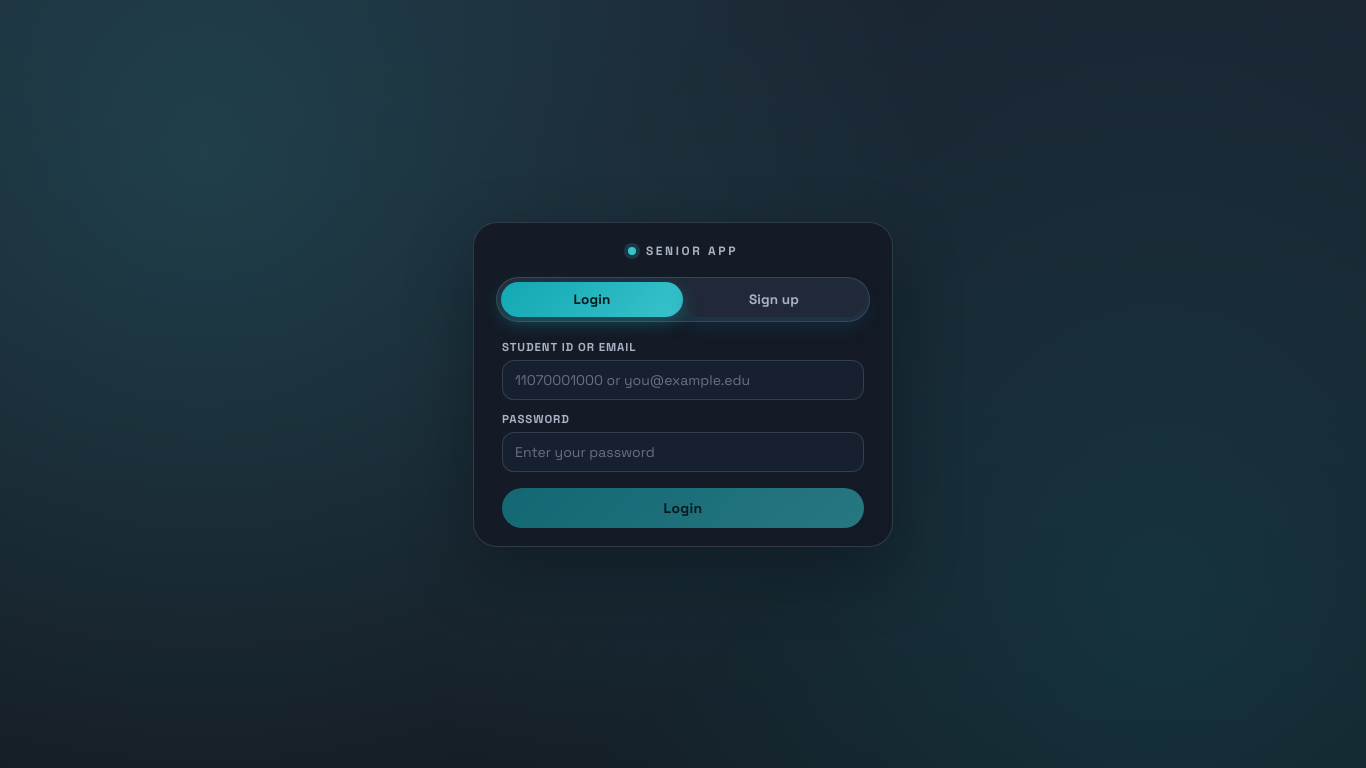
Test: Unified login page (issue #315) › rejects identifiers that are neither an 11-digit ID nor an email on submit
Type "not-valid" into the field labelled "Student ID or Email". click: (683, 380)
box: [502,360,864,400]
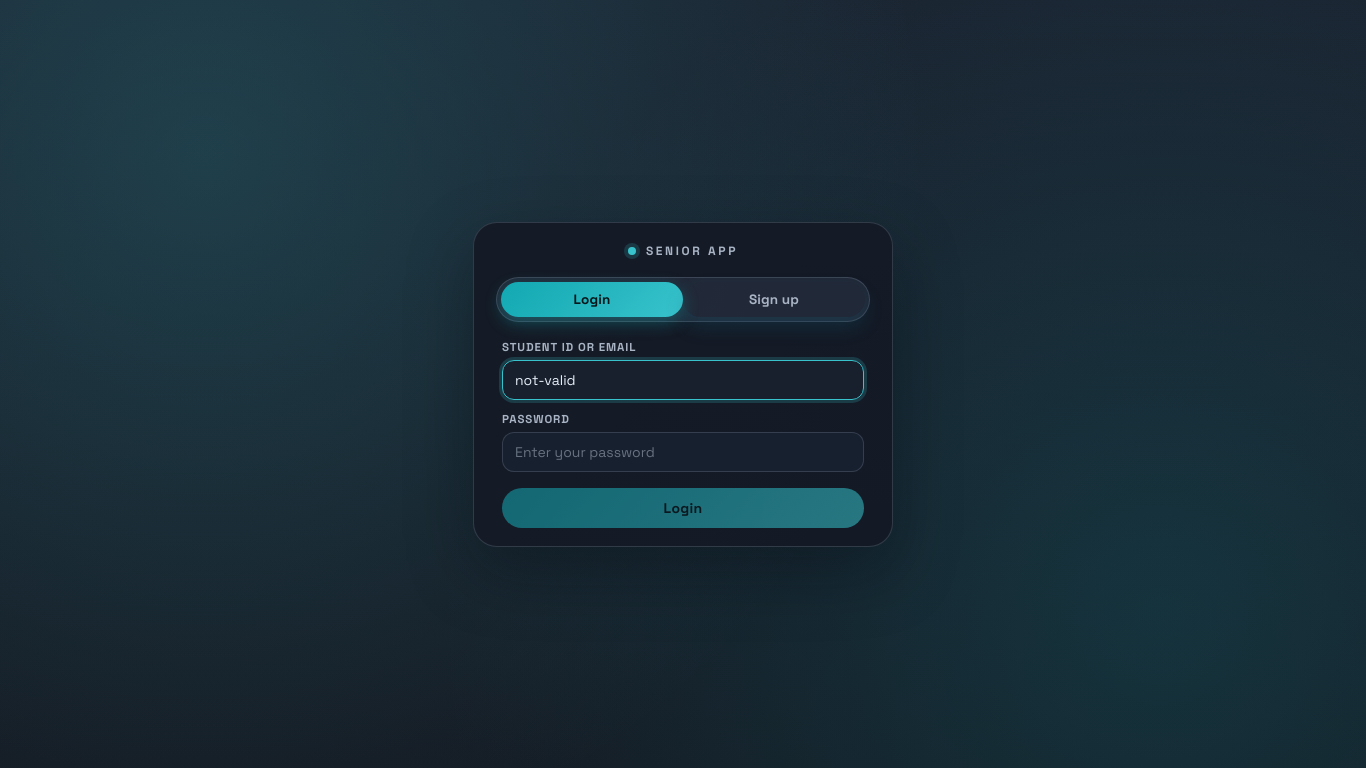
Type "pw" into the password field labelled "Password". click: (683, 452)
box: [502,432,864,472]
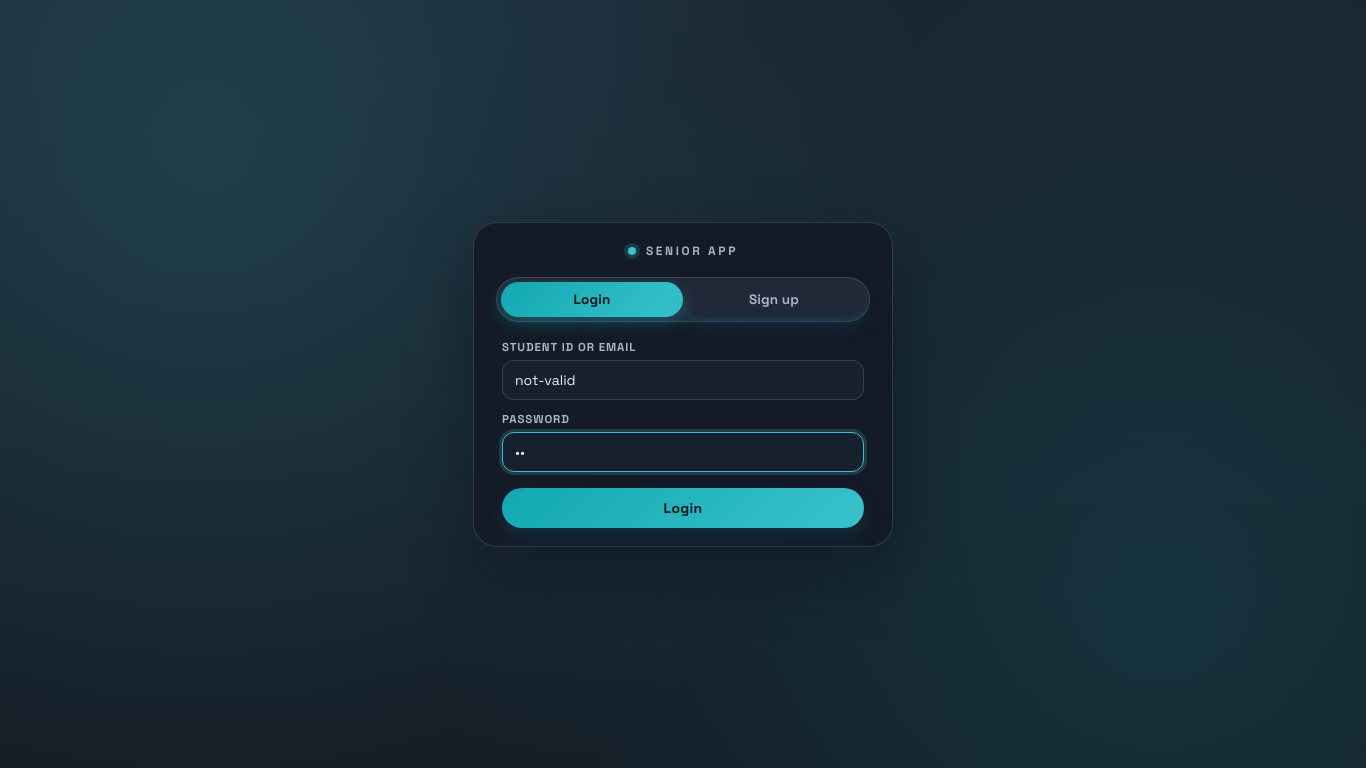
Click the button "Login". click: click(683, 508)
box: [502,488,864,528]
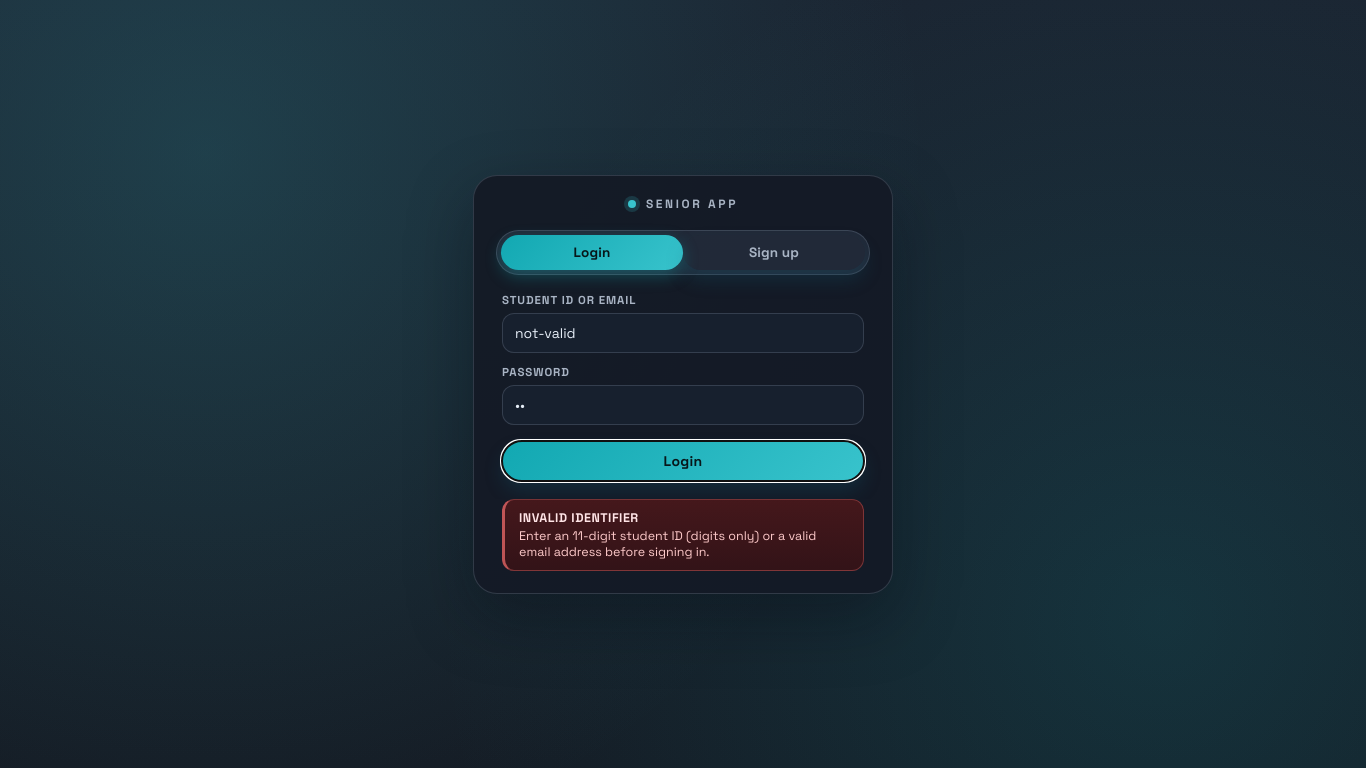
Result: the heading "Invalid identifier" is shown at [519,510,639,526]
